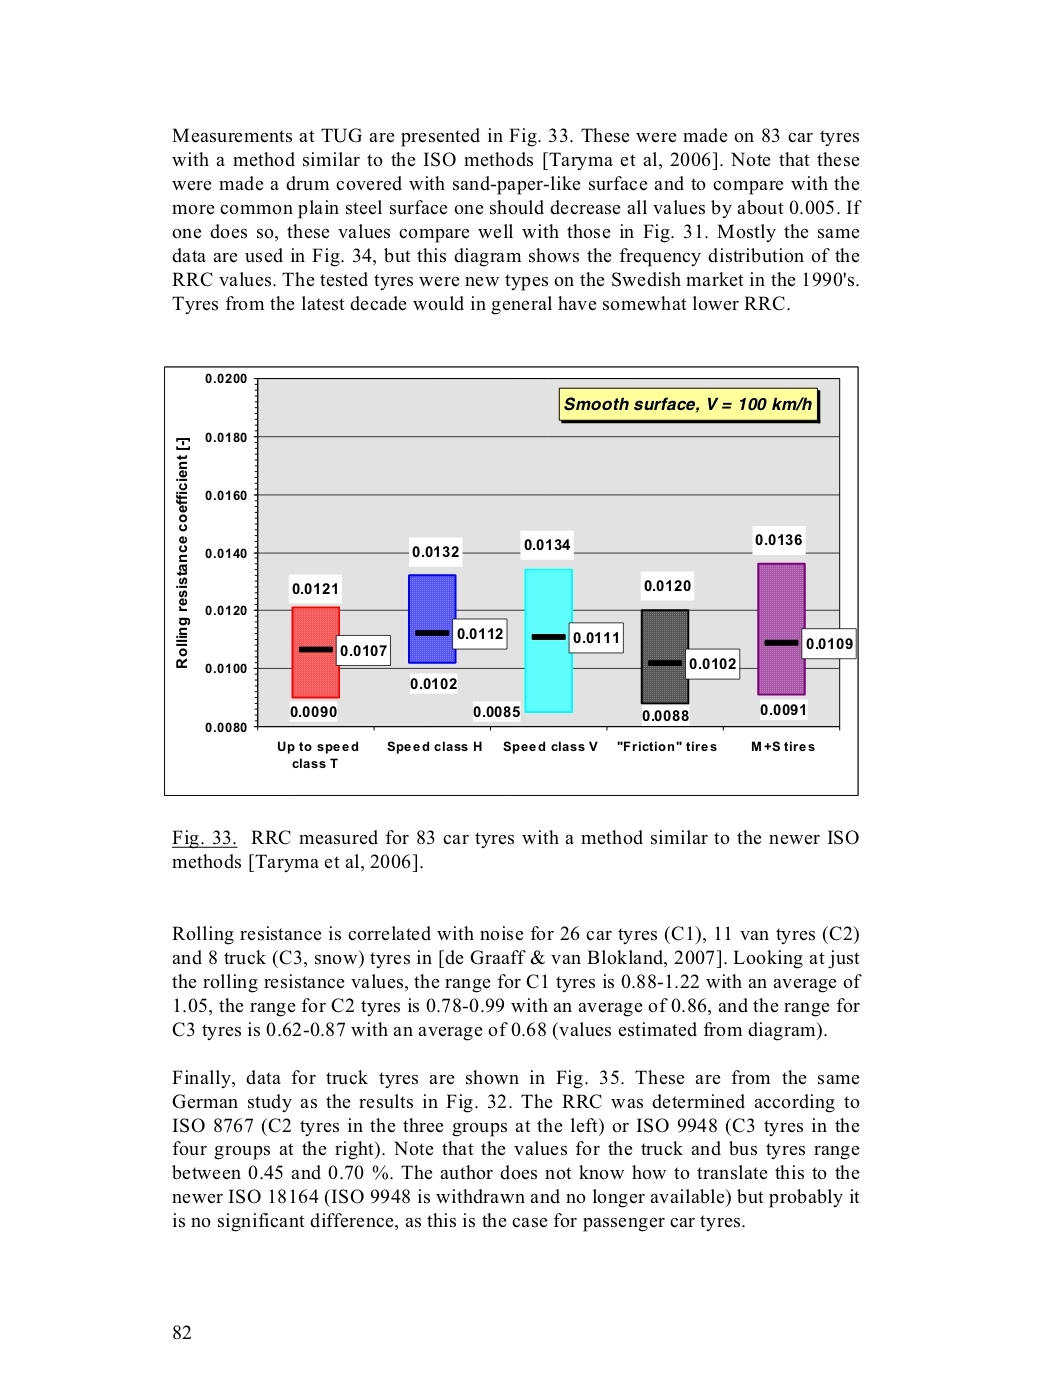figure: (164, 366, 858, 796)
